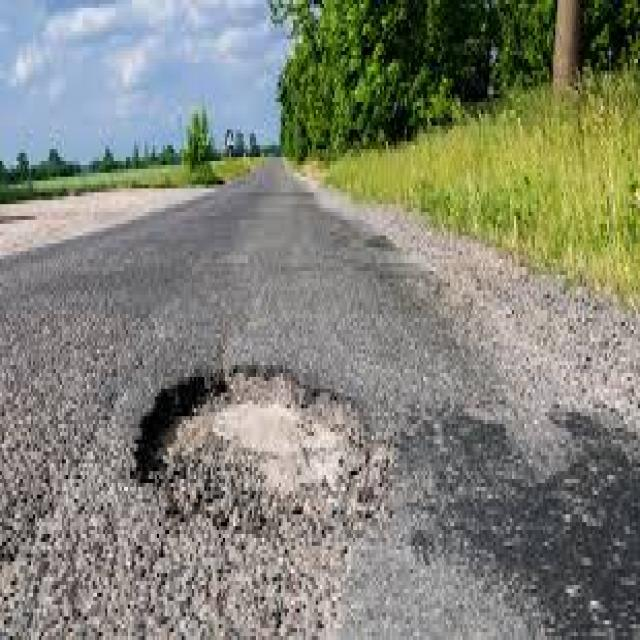Pothole: (136, 373, 390, 507)
